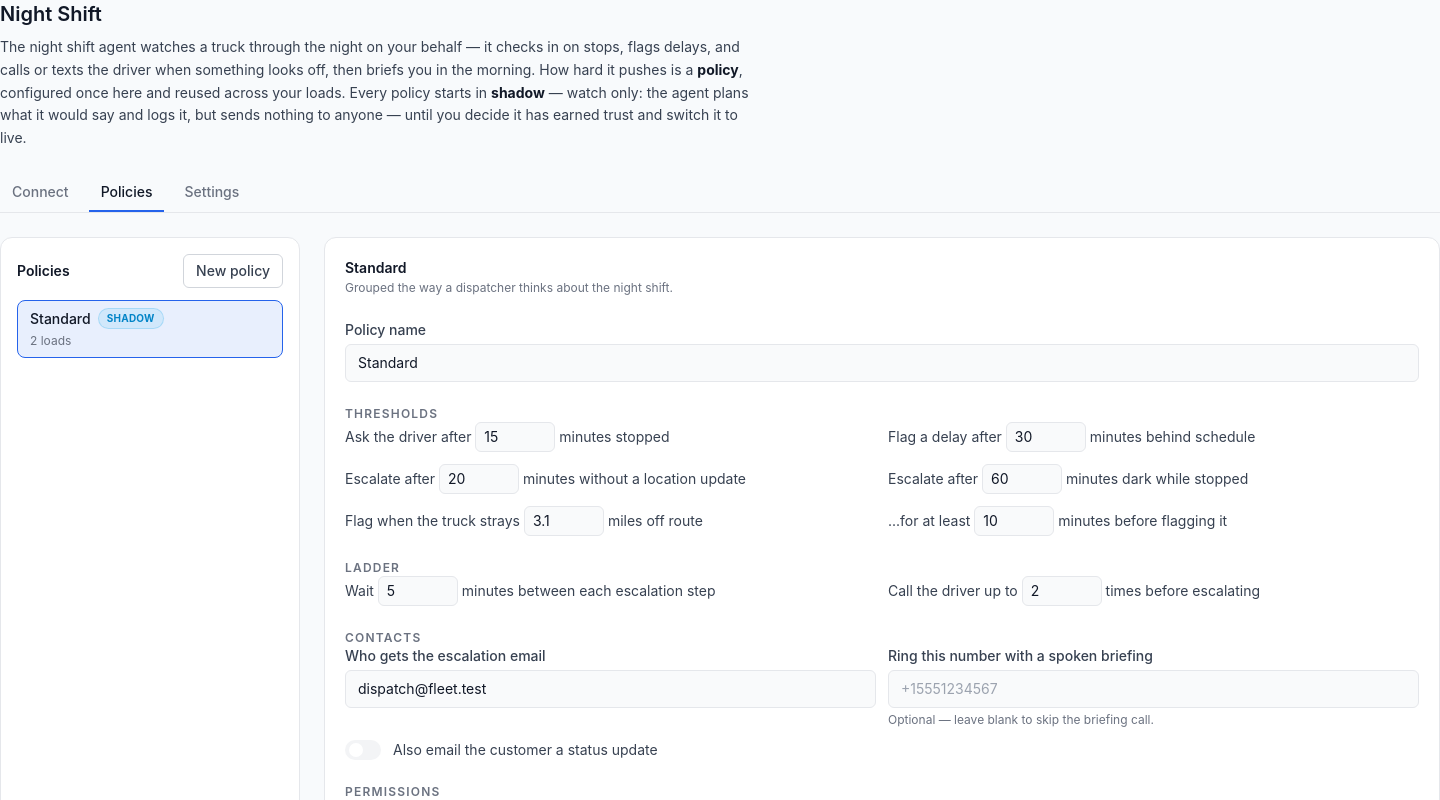
Test: NightShiftView › tabs (Task 11) › clicking the Connect tab button switches views without a query param
Click the button with test id "tab-connect" at coordinates (40, 193), box [0, 174, 81, 212]
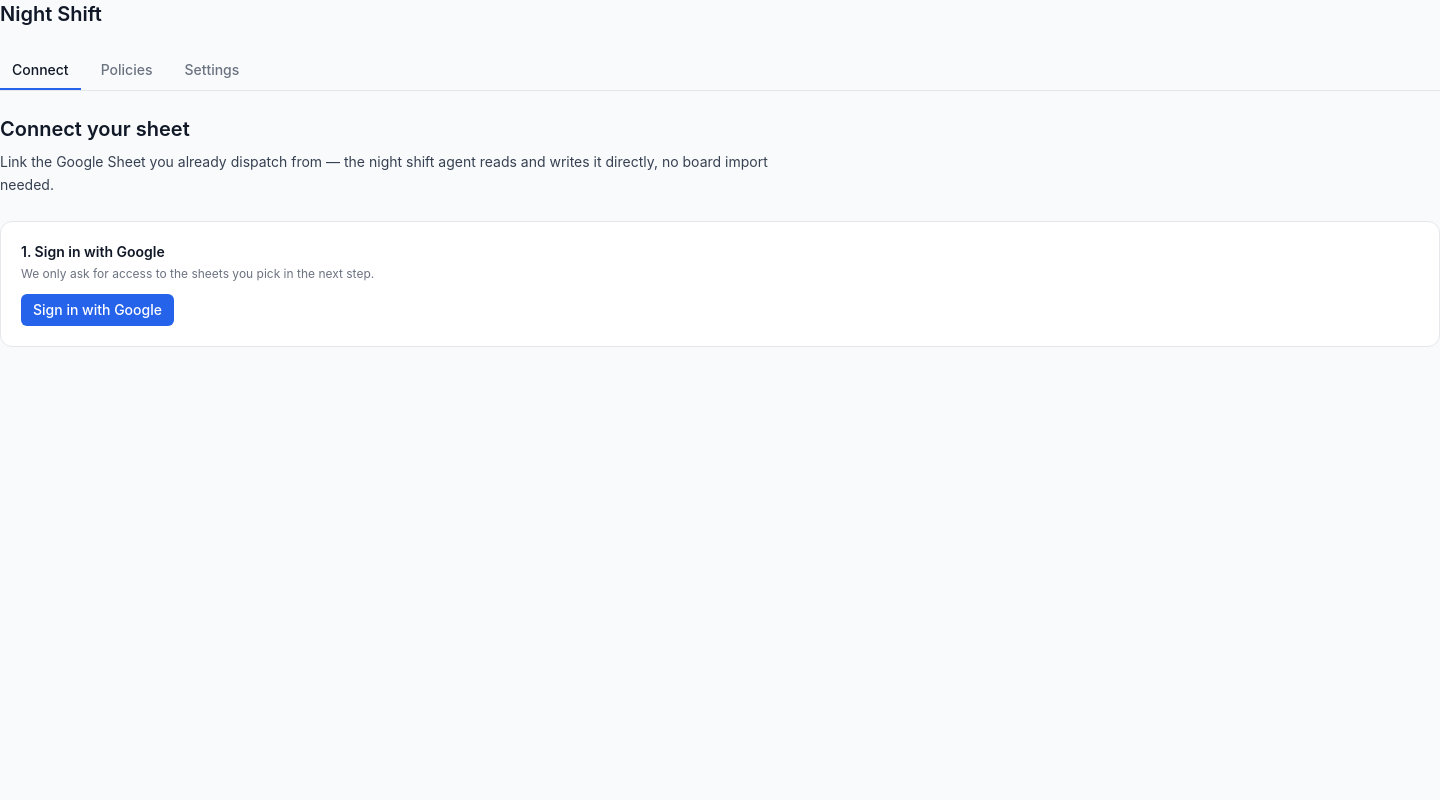
Result: the element with test id "connect-sheet" is shown at [0, 115, 1439, 346]
